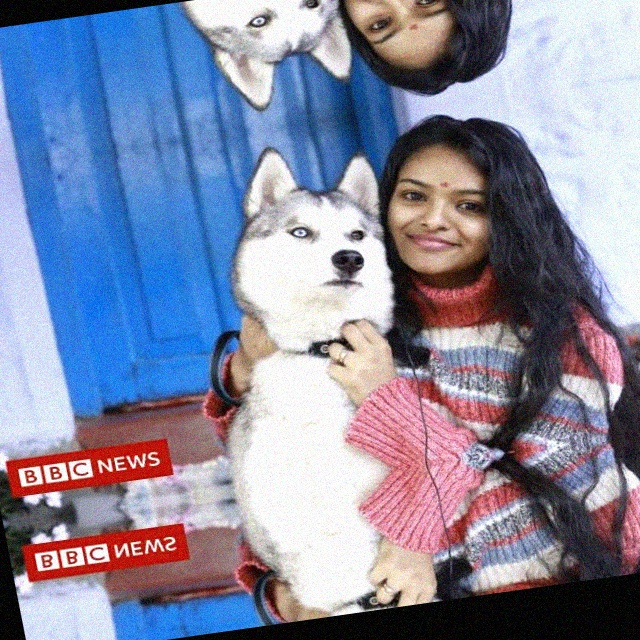dog: (209, 127, 408, 354), (180, 0, 363, 125), (300, 594, 460, 621)
